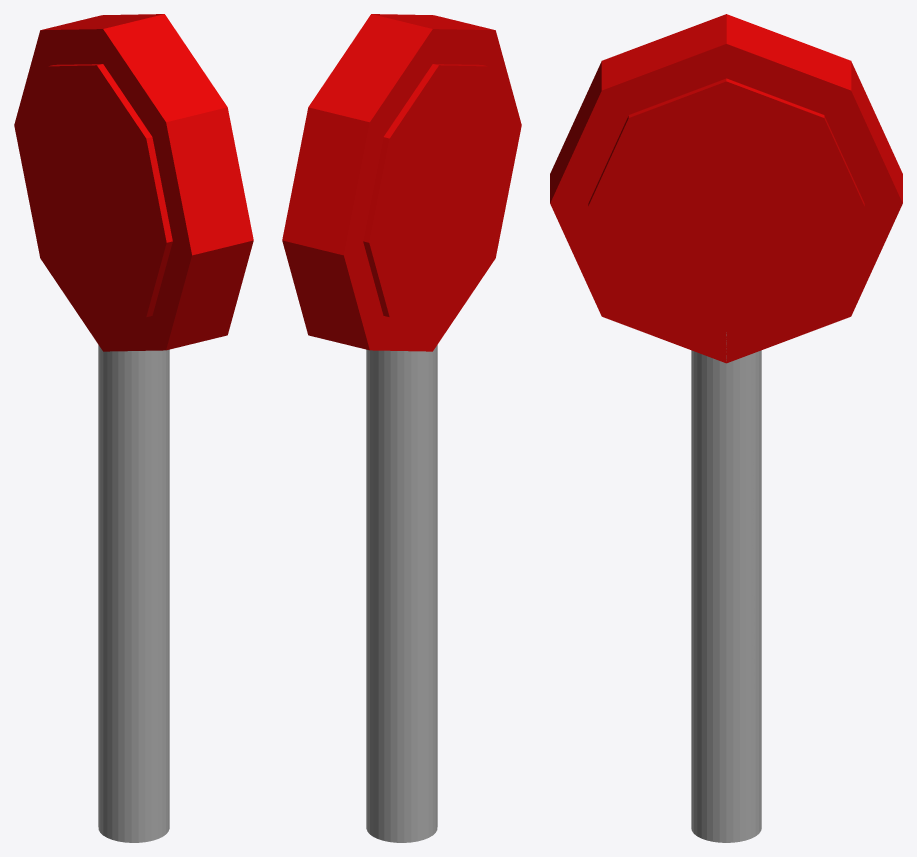
The model's file is StopSign.fbx.
3 views of the same model, side by side, from view 1: azimuth 30°, elevation 25°; view 2: azimuth 150°, elevation 25°; view 3: azimuth 270°, elevation 25° (orthographic).
Parts seen in each view (by area): view 1: StopSign; view 2: StopSign; view 3: StopSign.
Boxes of the visible parts, <box> form: StopSign: <box>14,14,253,842</box>; StopSign: <box>282,14,521,842</box>; StopSign: <box>550,14,902,842</box>.
Size of the model in its own units: 12 by 125 by 50.
